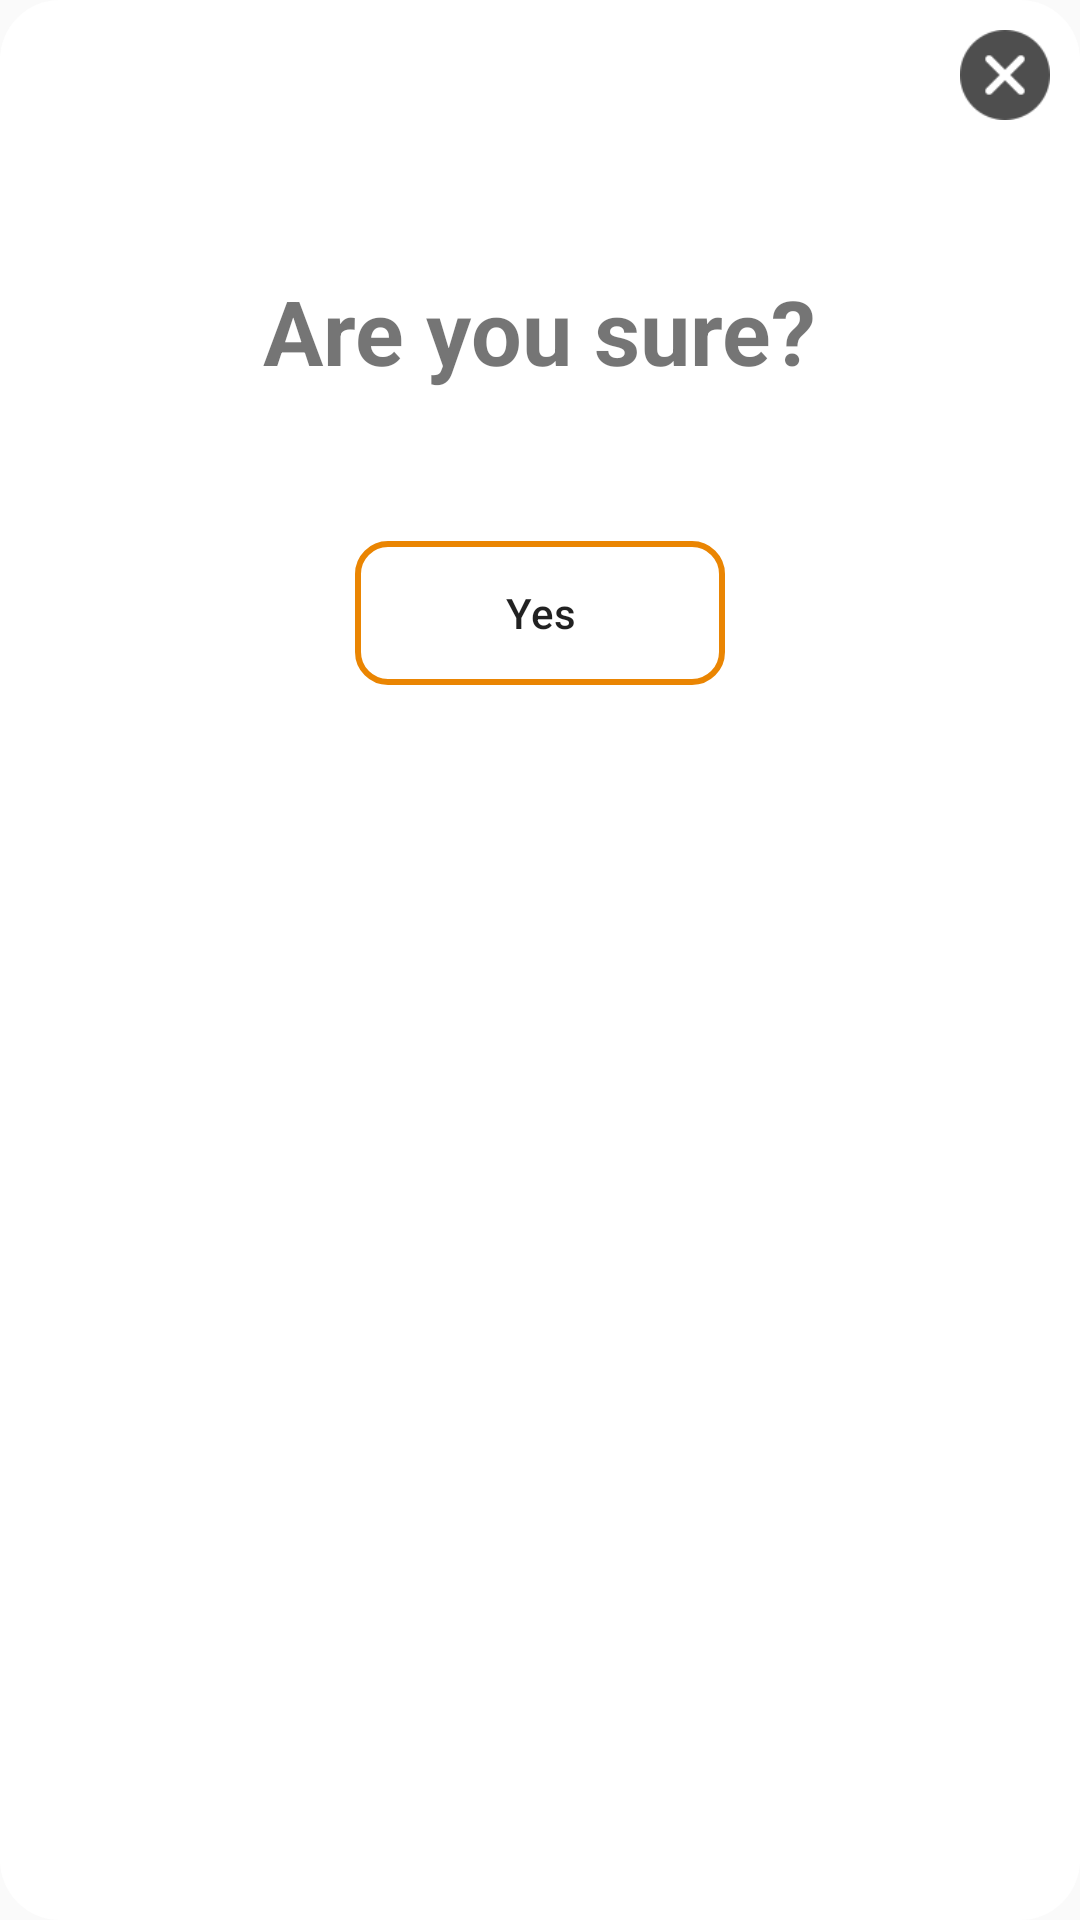

Named icons in this screenshot (1080w x 1920h) and their bounding boxes, (x1, y1, x2, y2):
close: (960, 30, 1050, 120)
